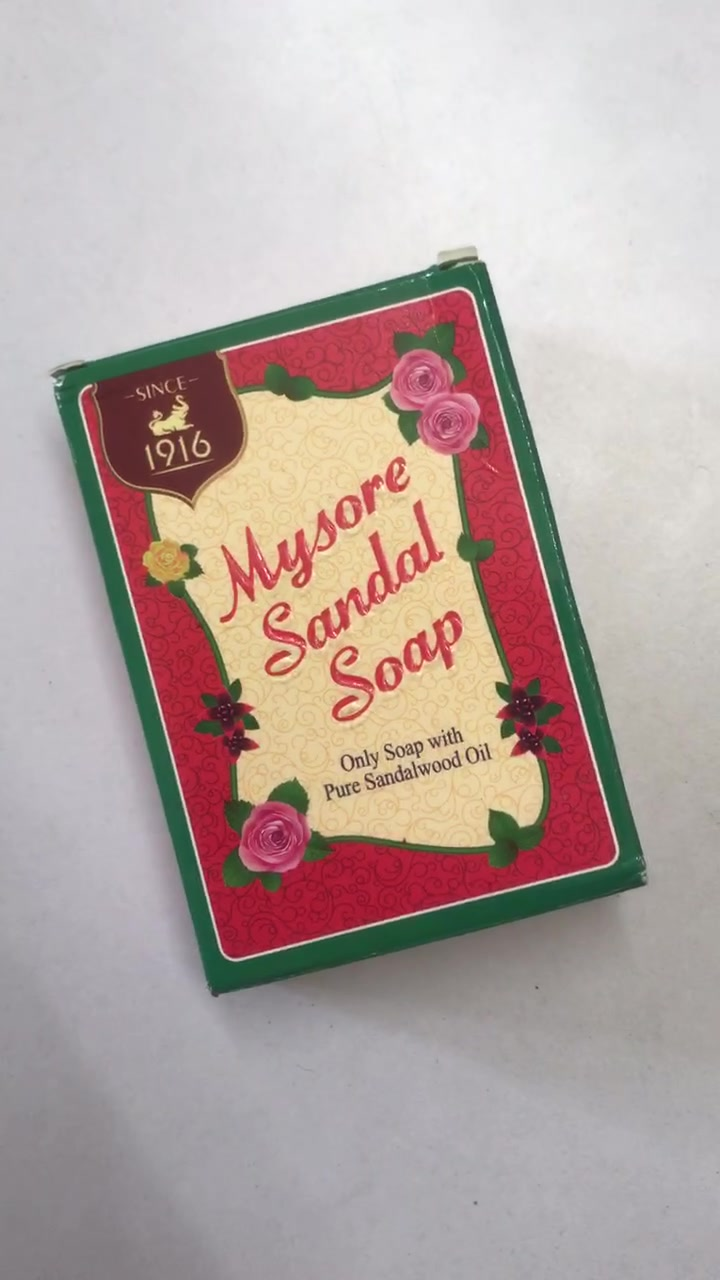mysore sandal soap: (53, 256, 642, 996)
